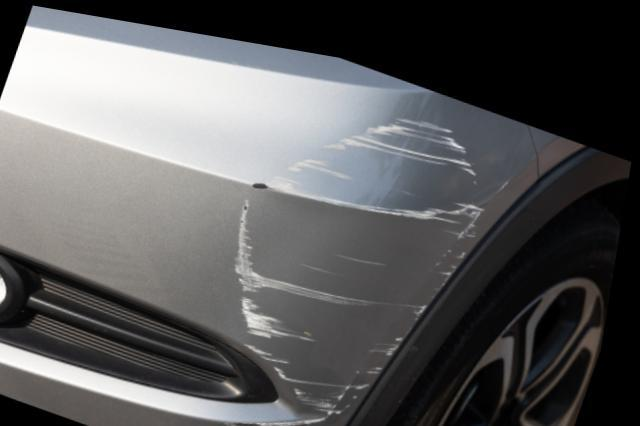scratch: (229, 103, 494, 426)
